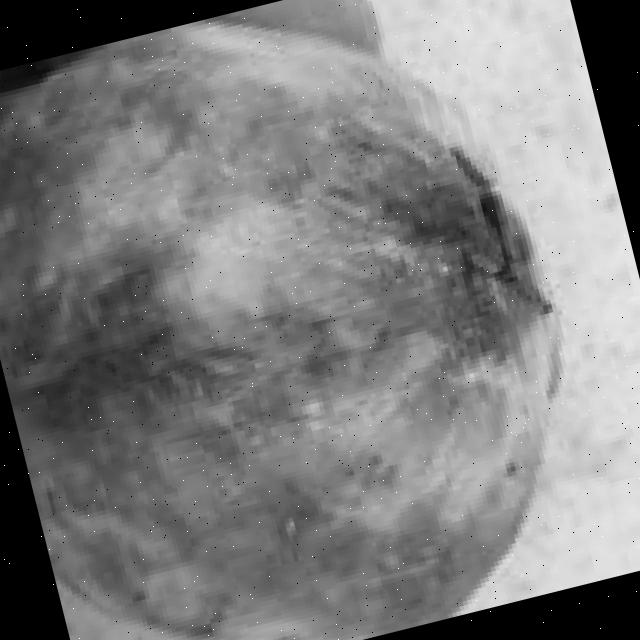Bad_Guava 0 day: (0, 24, 558, 640)
